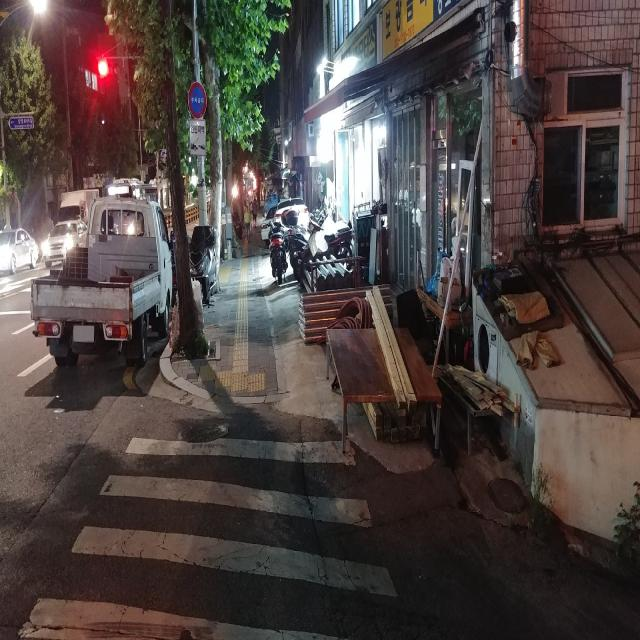횡단보도: (16, 434, 400, 640)
